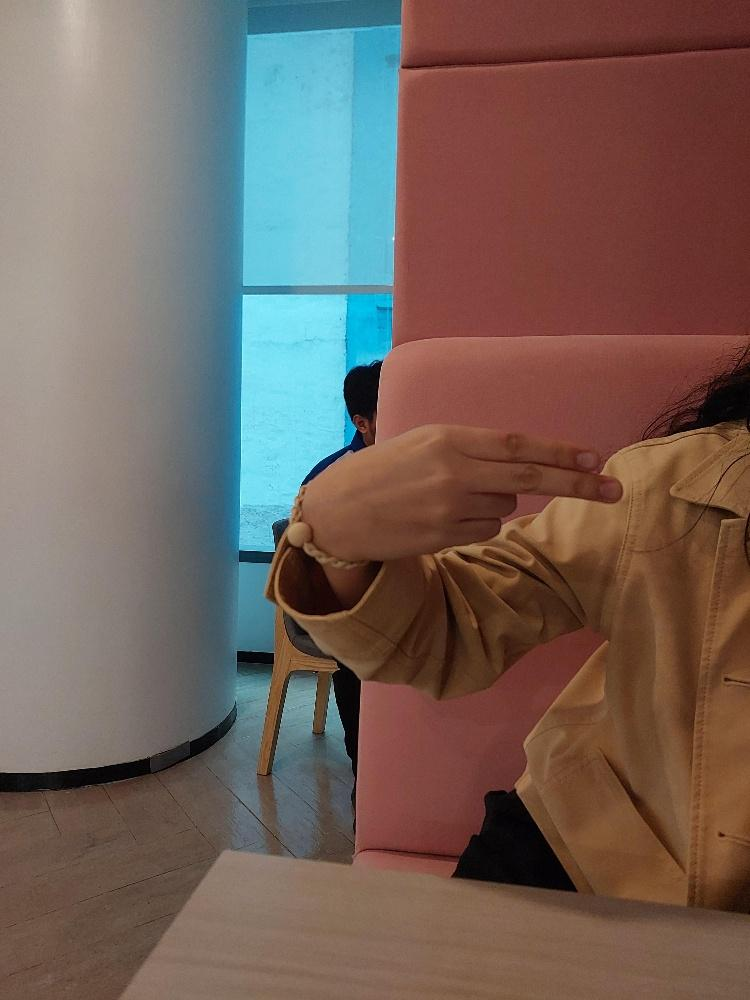h: (295, 412, 624, 567)
